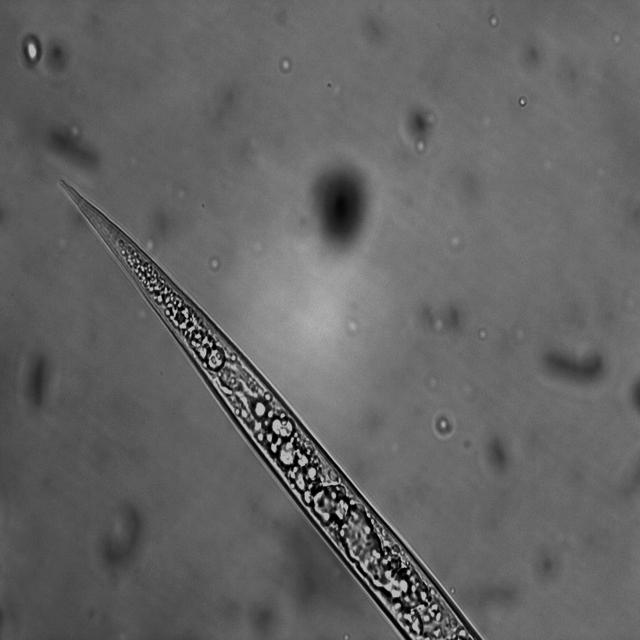Meloidogyne: (54, 168, 512, 640)
